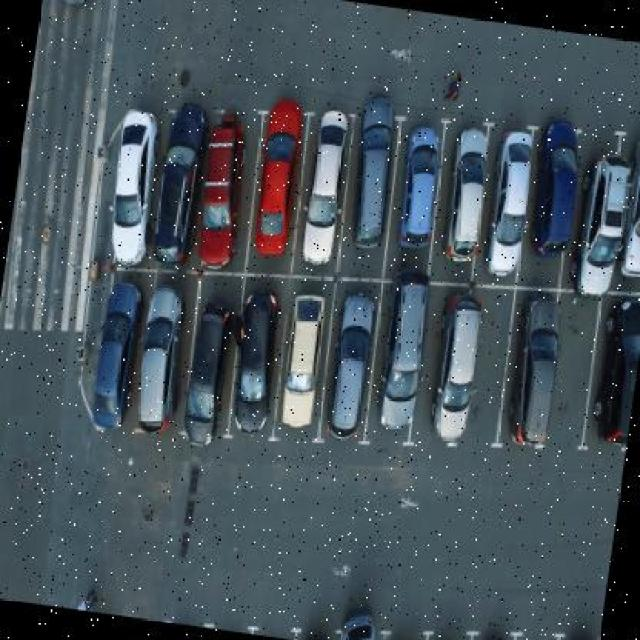Car: (87, 89, 167, 281), (287, 90, 364, 283), (243, 84, 320, 267), (187, 92, 260, 284), (142, 96, 215, 275), (217, 275, 286, 464), (341, 80, 409, 271), (123, 281, 190, 463), (270, 283, 338, 457), (81, 277, 150, 446), (526, 89, 593, 256), (323, 283, 384, 463), (175, 292, 241, 455), (570, 152, 638, 310), (500, 290, 563, 455), (478, 126, 538, 293), (372, 275, 432, 441), (423, 298, 484, 461), (584, 294, 640, 460), (441, 120, 498, 274), (390, 118, 450, 262), (621, 127, 640, 284), (332, 588, 381, 640), (475, 627, 524, 640), (555, 627, 599, 640)
Empty: (541, 303, 601, 457), (464, 303, 515, 454)
